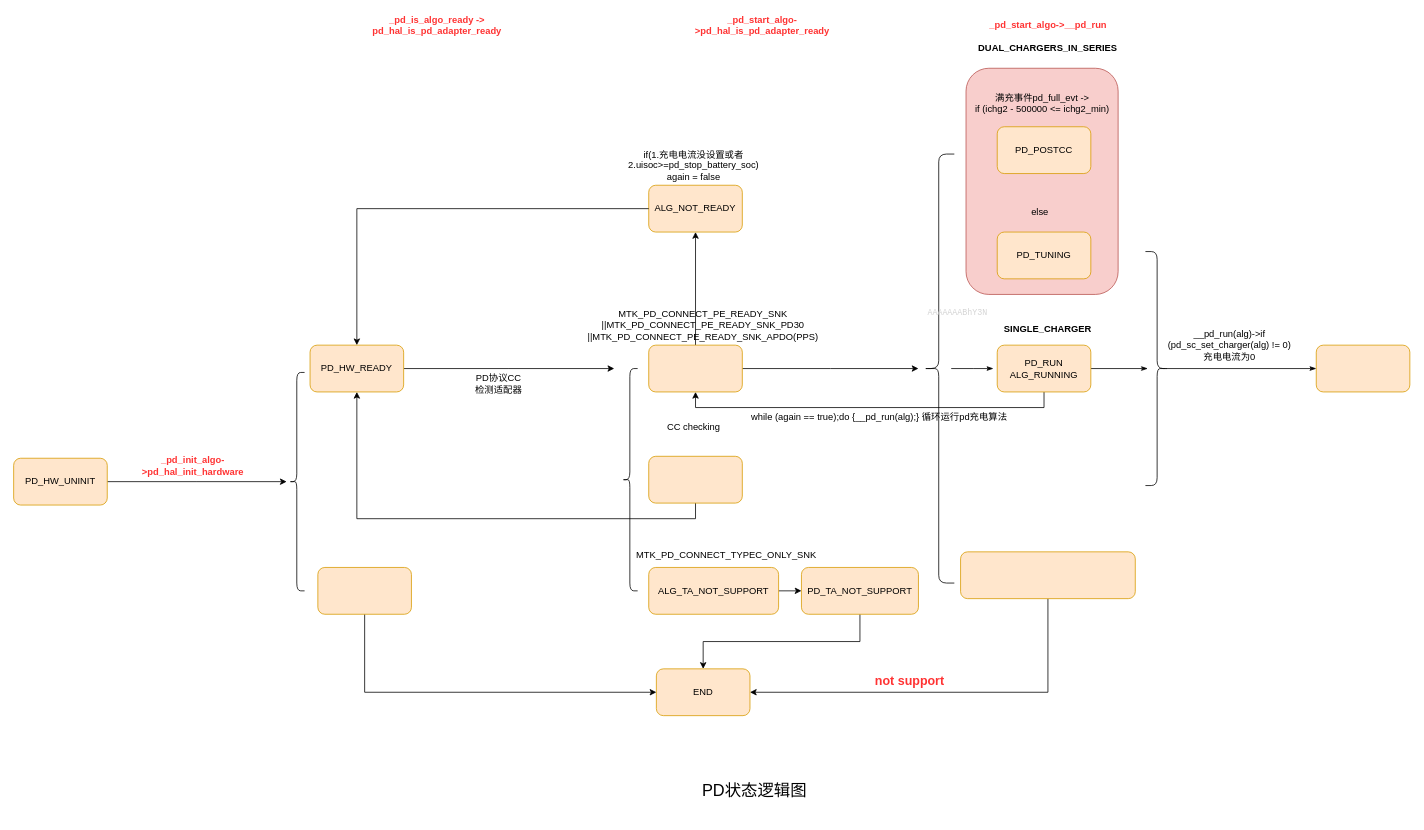
Image size: 1424x830. Some labels were removed from this diagram. Each missing label, with the centre of its shape:
ALG_DONE: the point at 1362,368
ALG_READY: the point at 695,368
ALG_TA_CHECKING: the point at 695,479
DUAL_CHARGERS_IN_PARALLEL: the point at 1047,575
PD_HW_FAIL: the point at 364,590
